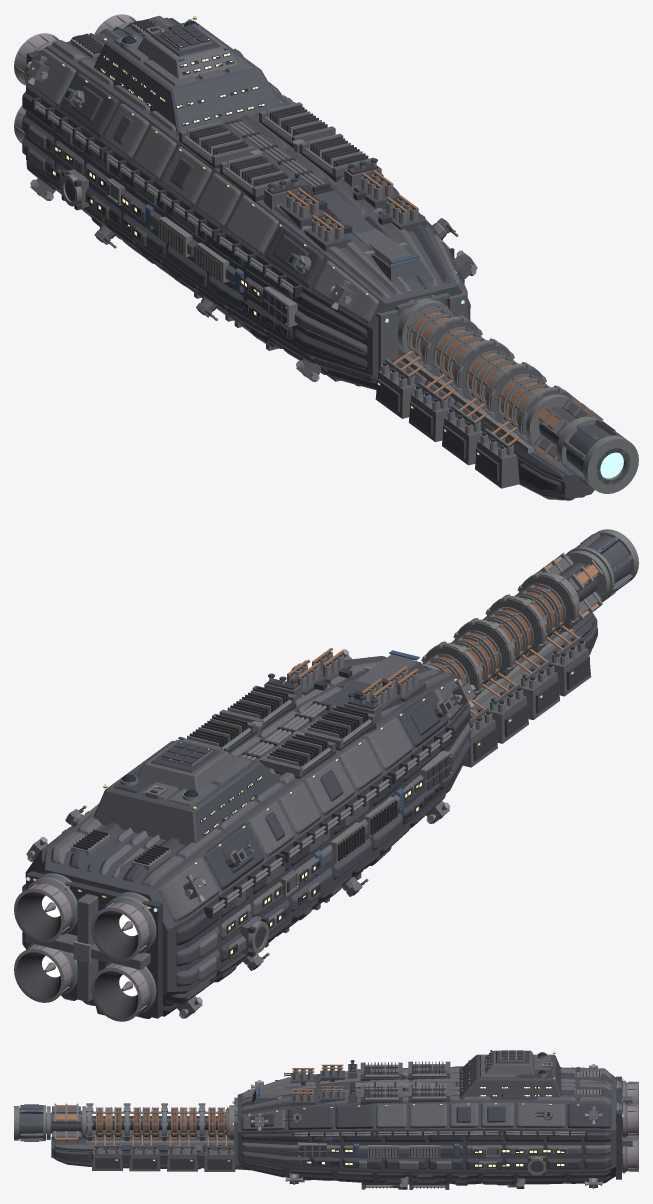
File: ion_frigate.glb
The picture shows the model from 3 angles, top to bottom: view 1: azimuth 30°, elevation 25°; view 2: azimuth 150°, elevation 25°; view 3: azimuth 270°, elevation 25°; orthographic projection. The views are drawn at different scales.
Parts seen in each view (by area): view 1: ion_frigate; view 2: ion_frigate; view 3: ion_frigate.
Boxes of the visible parts, x1,y1,x2,y2 form: ion_frigate: (14,14,638,500); ion_frigate: (14,529,638,1021); ion_frigate: (14,1050,638,1189).
Size of the model in its own units: 14.02 by 14.78 by 68.48.
